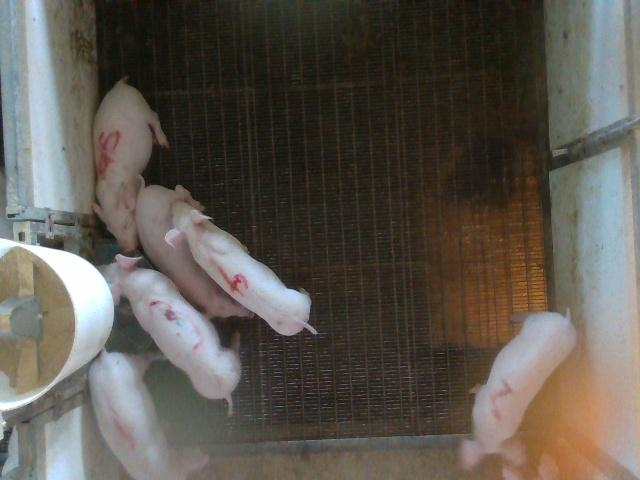pig-1: (89, 350, 174, 479)
pig-2: (460, 312, 576, 469)
pig-3: (100, 255, 240, 401)
pig-4: (166, 201, 318, 336)
pig-5: (94, 78, 169, 253)
